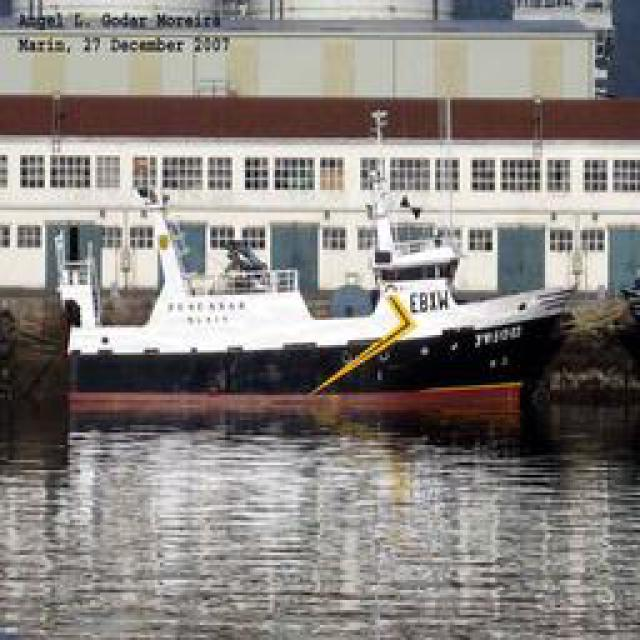Ship: (56, 190, 586, 405)
